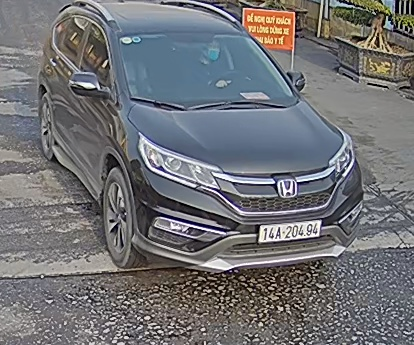vehicle plate: (253, 220, 325, 241)
